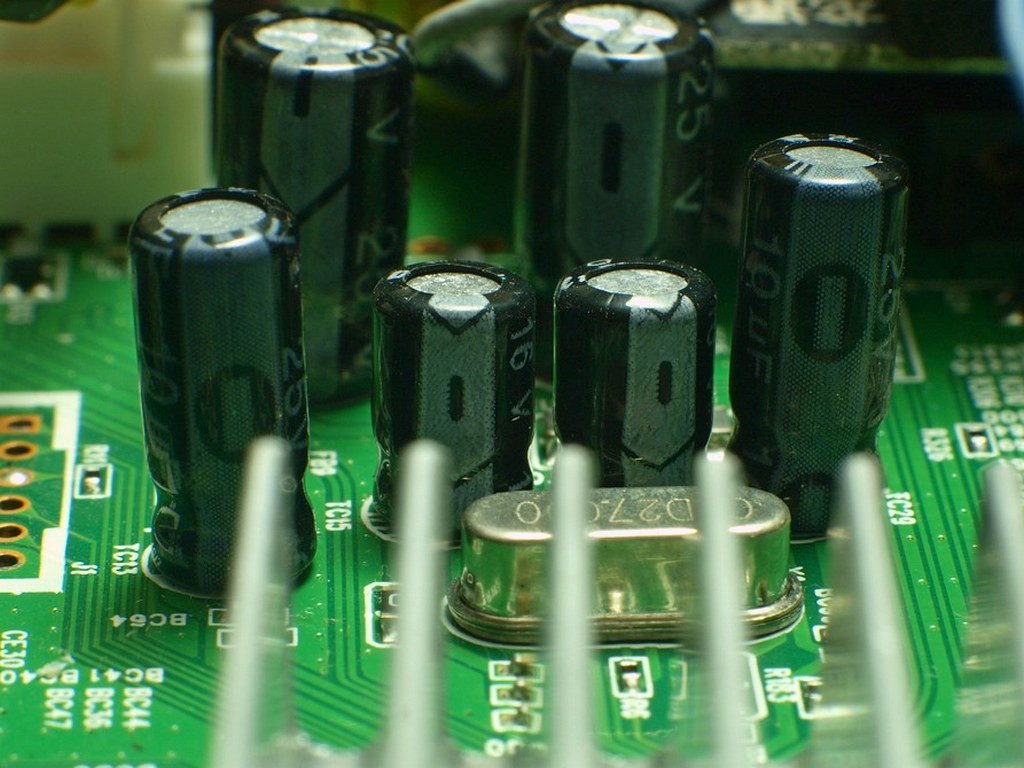capacitor: (127, 187, 317, 599), (729, 126, 912, 544), (515, 2, 721, 257), (373, 258, 533, 527), (212, 6, 421, 189), (554, 255, 718, 485)
